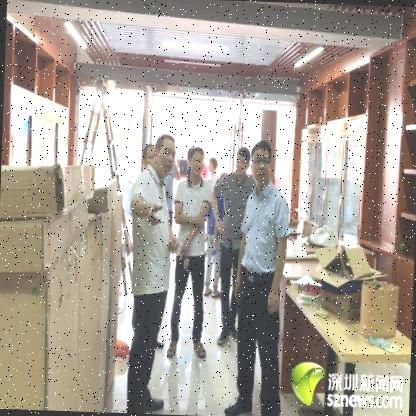sem_capacete: (152, 132, 178, 179), (250, 137, 274, 187), (187, 146, 205, 178), (234, 146, 250, 177), (207, 154, 219, 176)
sem_colete_refletivo: (126, 168, 177, 298), (240, 179, 290, 277), (171, 176, 212, 257), (213, 171, 253, 249)
